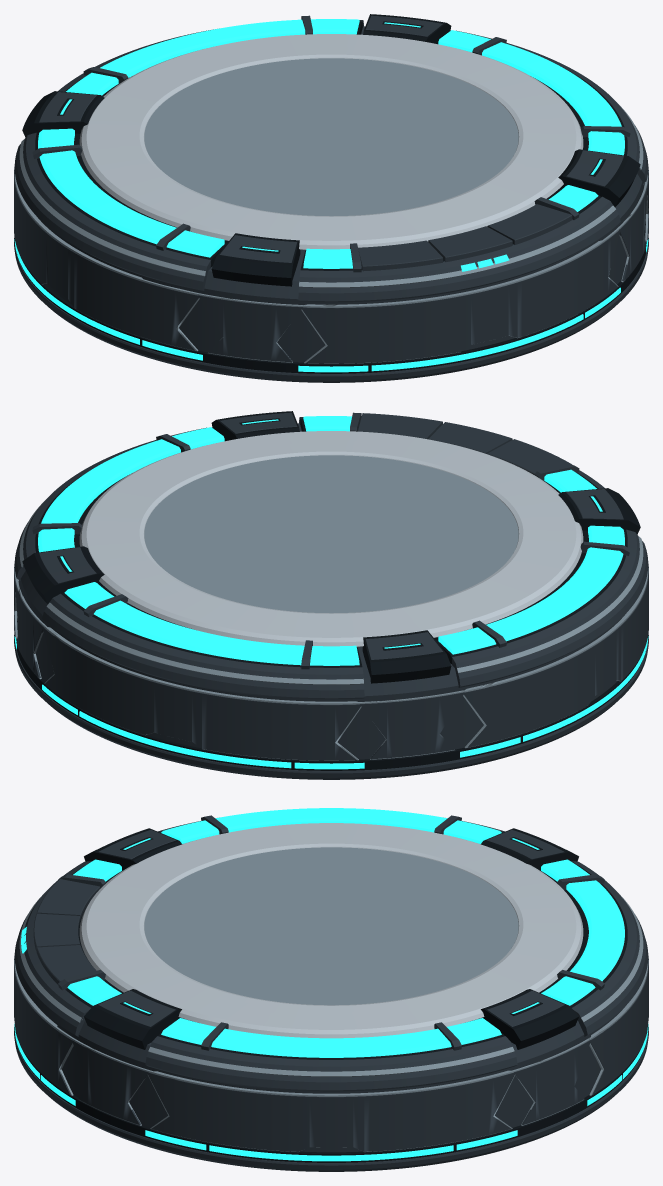
Rendered from Slider.fbx.
3 views of the same model, one above another, from view 1: azimuth 30°, elevation 25°; view 2: azimuth 150°, elevation 25°; view 3: azimuth 270°, elevation 25° (orthographic).
Visible parts, largest first — view 1: SM_Puck_Slider_HighDetail; view 2: SM_Puck_Slider_HighDetail; view 3: SM_Puck_Slider_HighDetail.
Boxes of the visible parts, left/top/right/bottom form: SM_Puck_Slider_HighDetail: left=14, top=14, right=648, bottom=382; SM_Puck_Slider_HighDetail: left=14, top=411, right=648, bottom=779; SM_Puck_Slider_HighDetail: left=14, top=808, right=648, bottom=1171.
Size of the model in its own units: 89.9 by 89.9 by 18.3.
